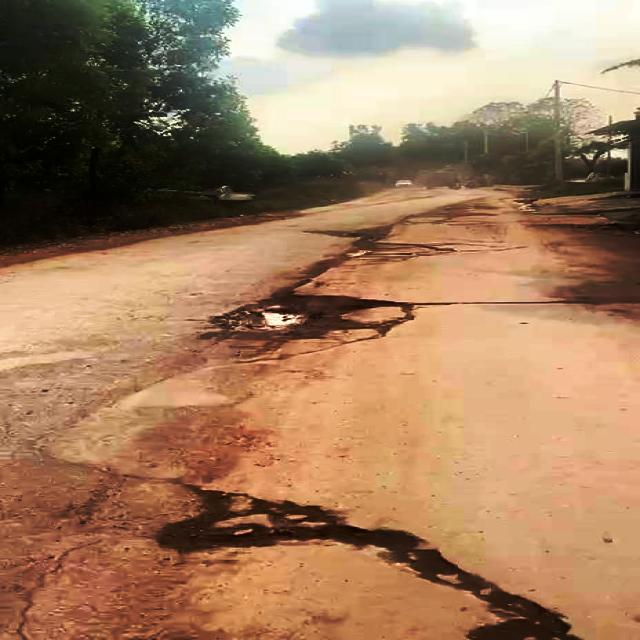pothole: (162, 477, 576, 640), (206, 292, 422, 346)
